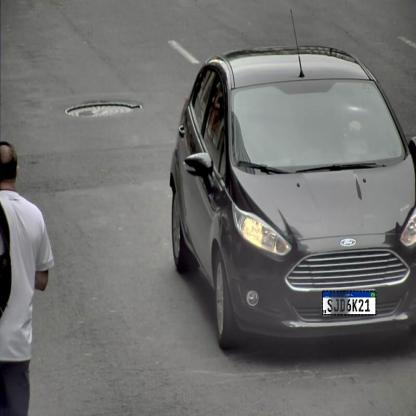PlacaM: (322, 290, 376, 315)
